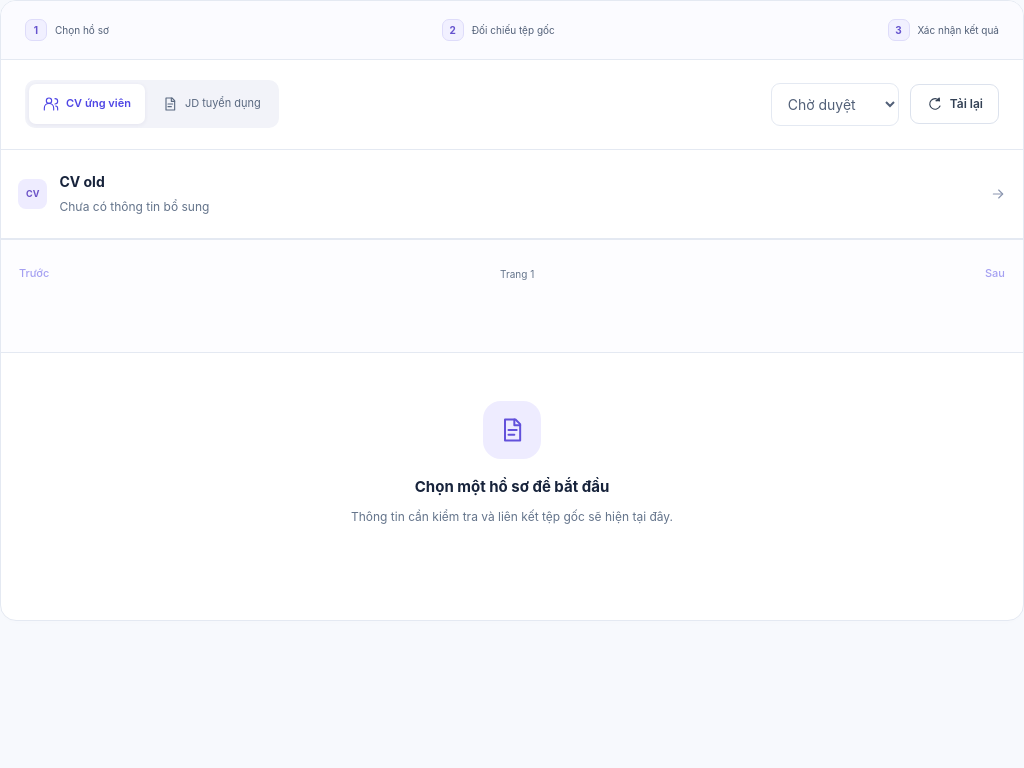
Test: review request lifecycle › invalidates CV detail when switching to JD
Click the button "CV CV old Chưa có thông tin bổ sung": (82, 182) [1,150,1023,239]
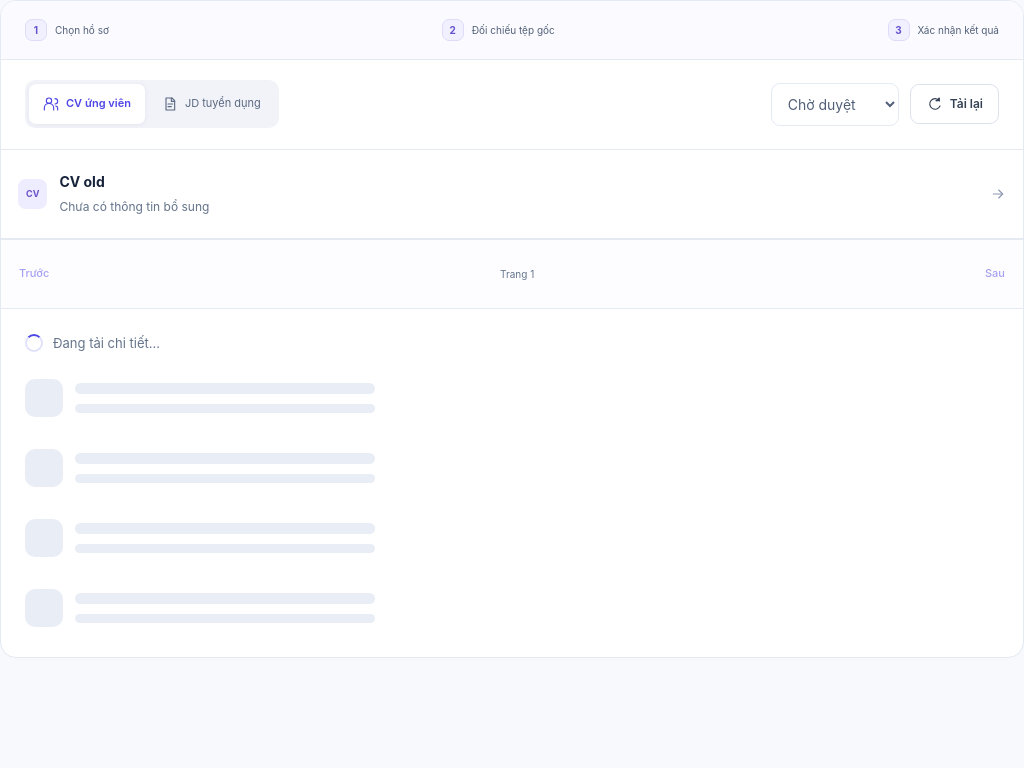
Click the button "JD tuyển dụng": (211, 104) [148,84,275,124]
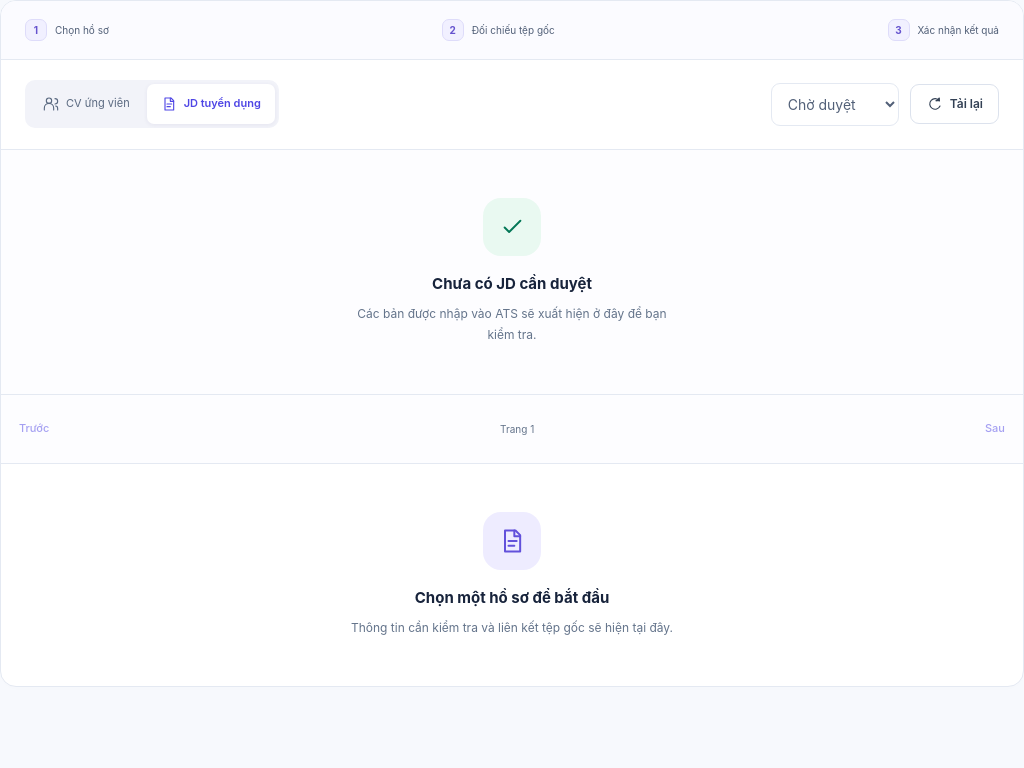
Now the heading "Chưa có JD cần duyệt" is shown, box [432,273,592,295]
Now the button "CV old" is gone
